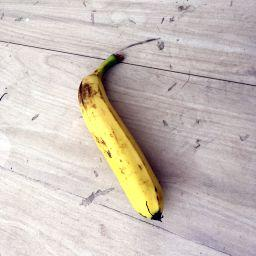banana: (76, 51, 165, 223)
